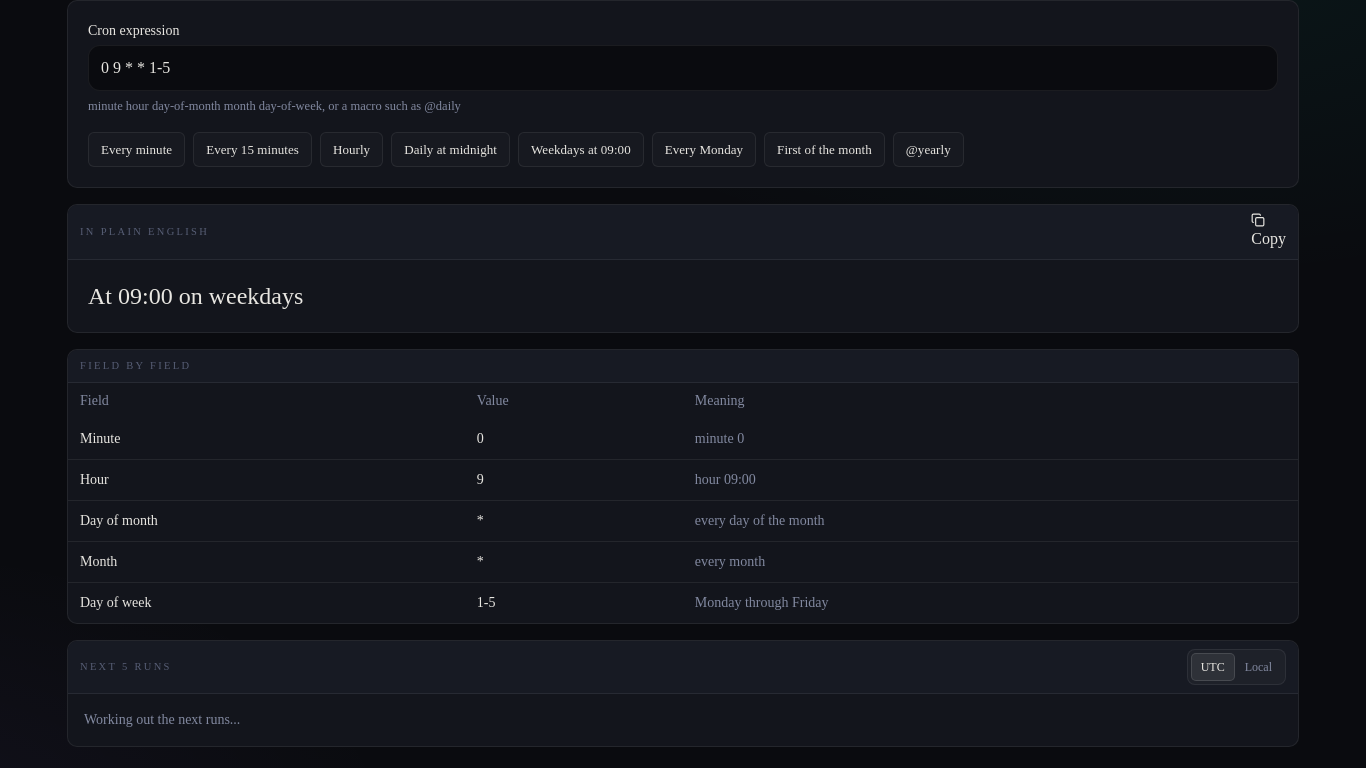
Test: CronExplainerClient › updates the description and the runs as you type
Step 1. Replace the text in the field labelled "Cron expression" with "*/15 * * * *" → (683, 68), box [88,45,1278,91]
(page scrolled)
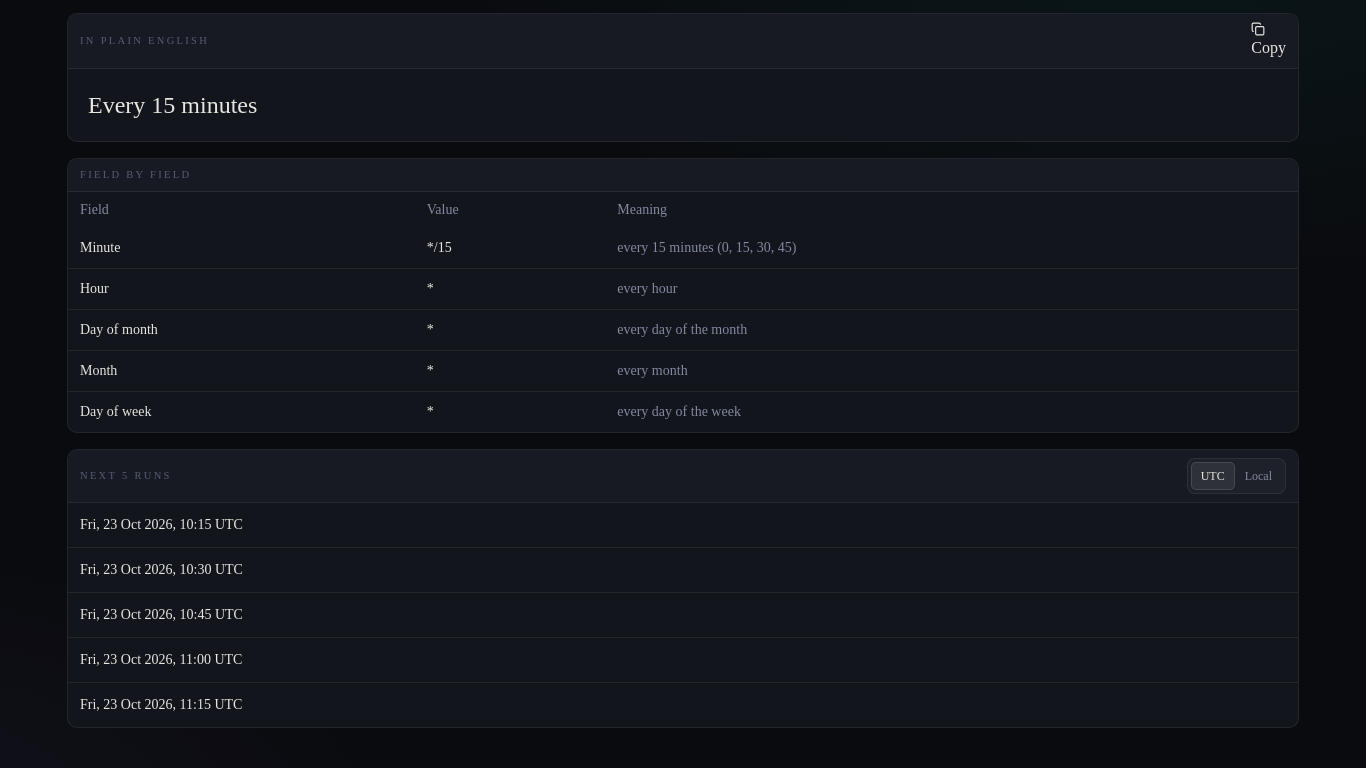
Expected: the text "Every 15 minutes" is shown, [88,92,257,118]
Expected: the list item "Fri, 23 Oct 2026, 10:15 UTC" is shown, [80,517,243,532]
Expected: the list item "Fri, 23 Oct 2026, 10:30 UTC" is shown, [68,547,1298,592]
